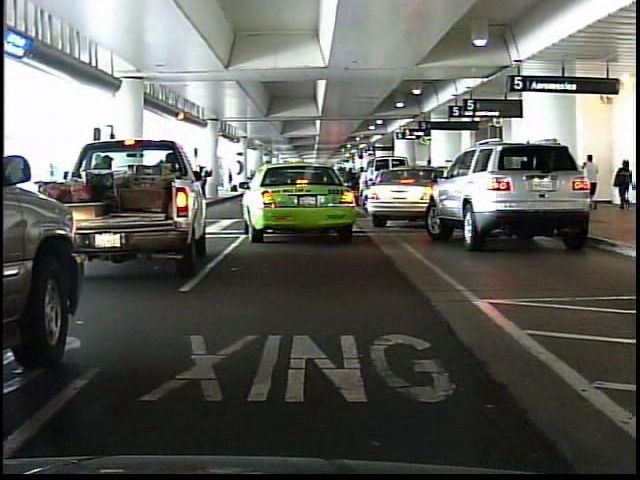person: (614, 158, 636, 215)
